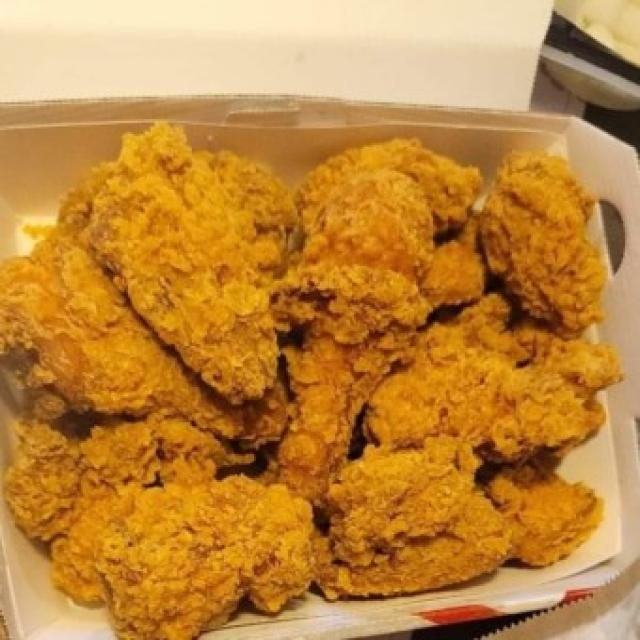Frango: (0, 117, 640, 640)
